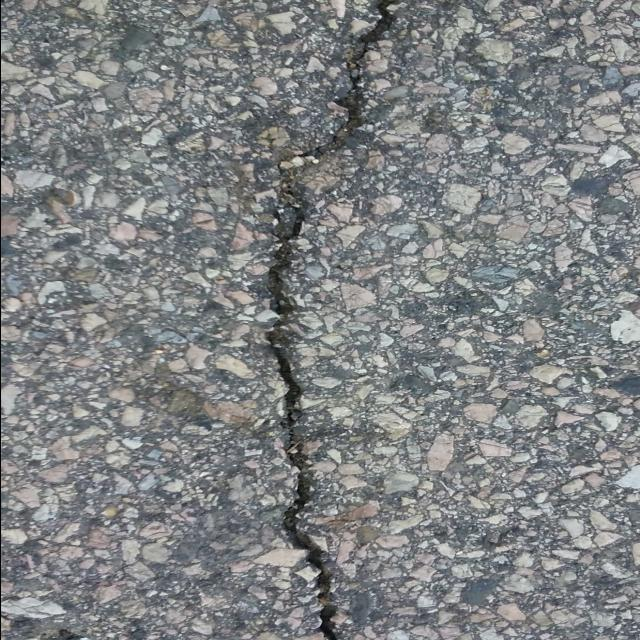Crack: (262, 0, 395, 640)
